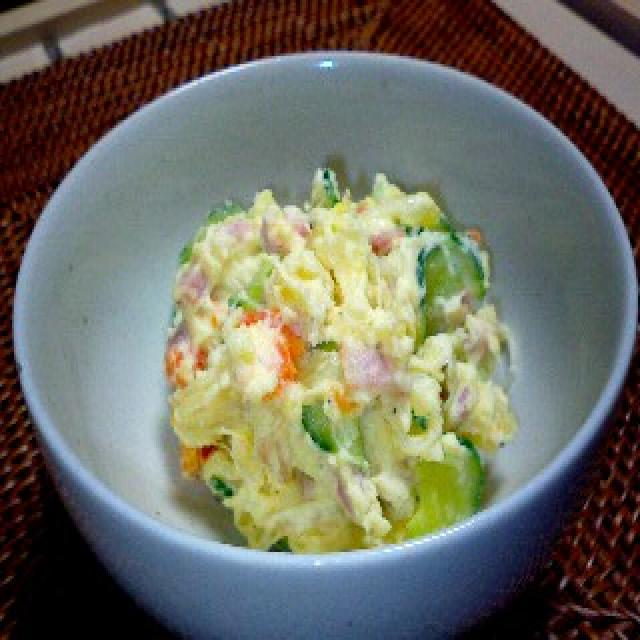蔬菜料理: (14, 37, 640, 640)
